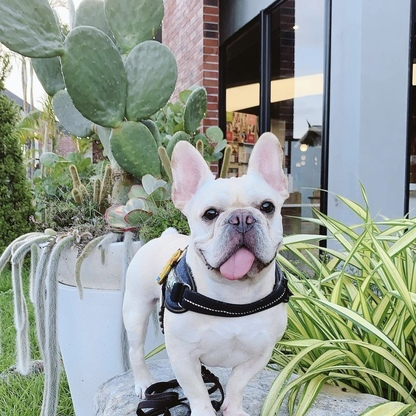bulldog: (121, 130, 292, 416)
